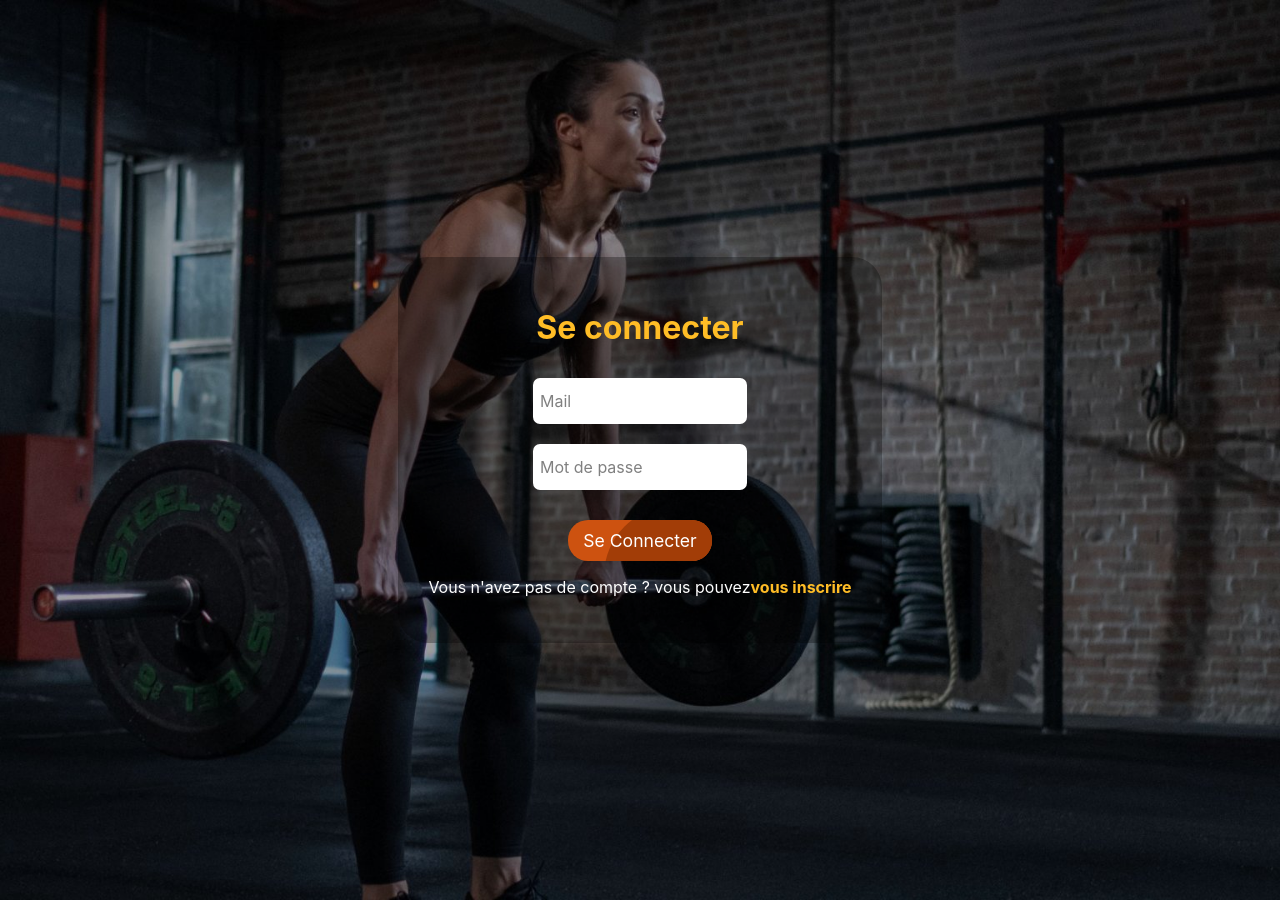
Test case: Signin Testing › When there is an err, change mail remove err
Step 1. Click the button "Se Connecter" → {"x": 640, "y": 541}, box [568,520,712,561]
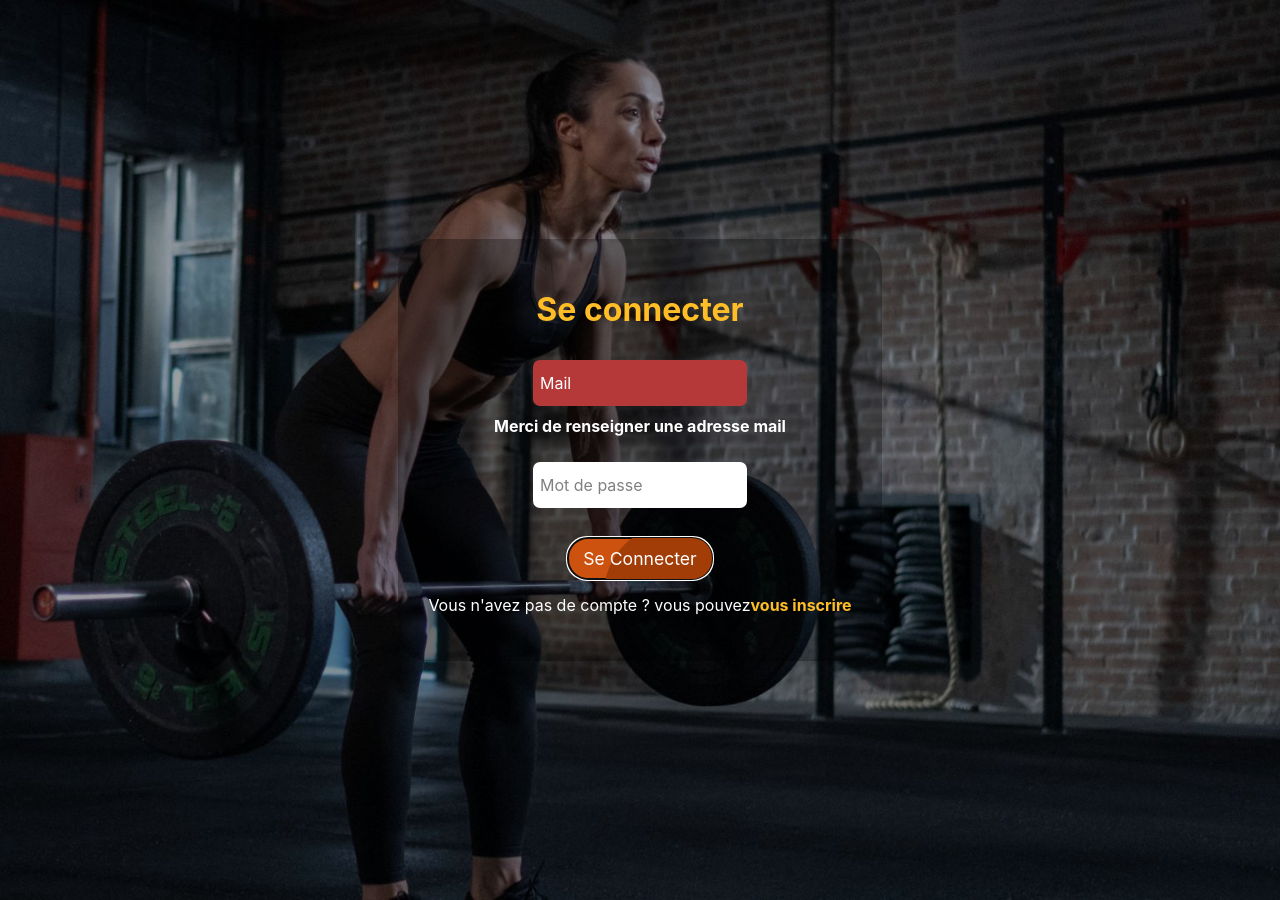
Check: the text "Merci de renseigner une adresse mail" is shown, box [494,416,786,436]
Step 2. Type "uneadressemail@yahoo.fr" into the field with placeholder "Mail" → {"x": 640, "y": 383}, box [533,360,747,406]
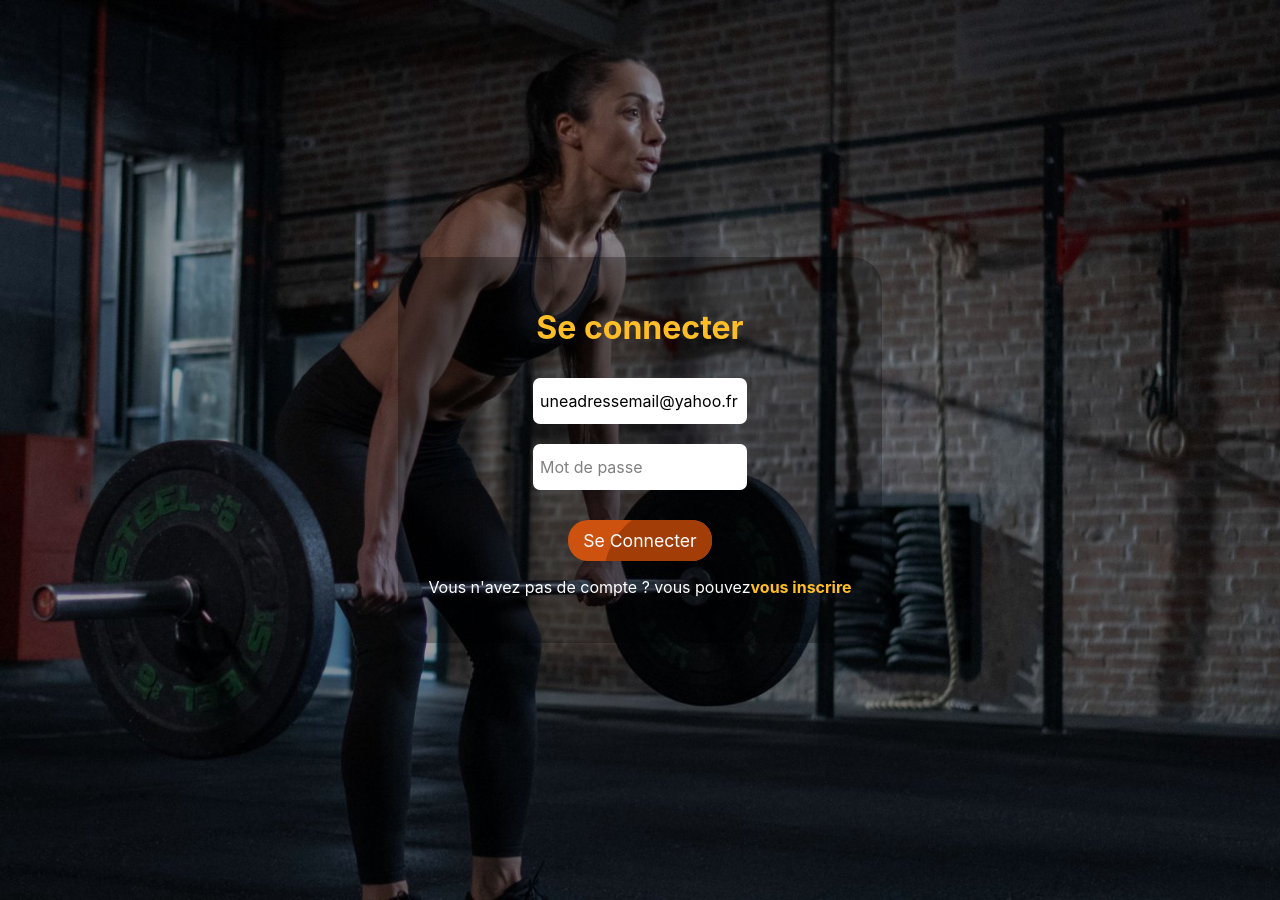
Check: the text "Merci de renseigner une adresse mail" is gone
